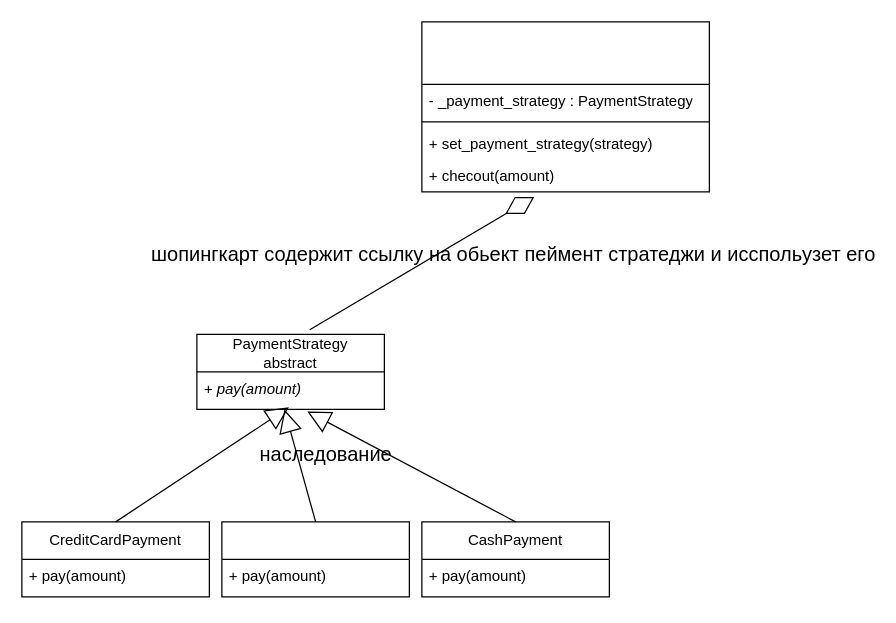
The diagram is 896 pixels wide and 623 high, and some of its shapes have lost their labels. The shapes that lost their labels are listed below. From the top down, each one's box as (x1, y1, x2, y2) in pixels, then its label:
(421, 21, 709, 192): ShoppingCart
(221, 521, 409, 597): PayPalPayment
